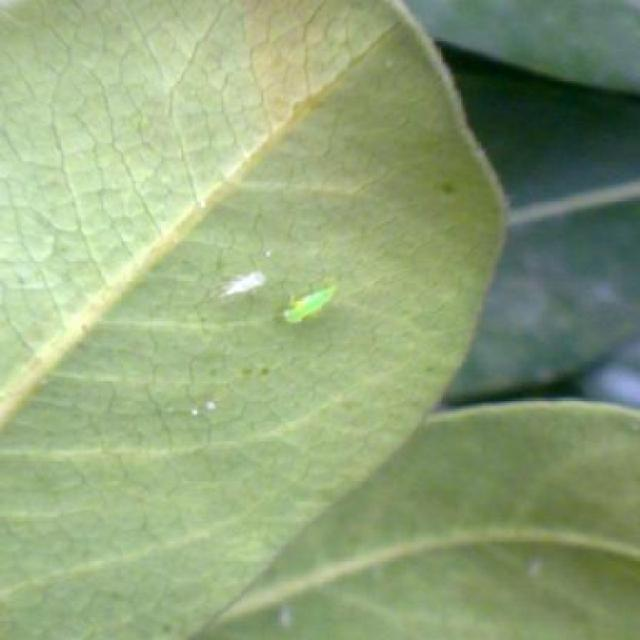green-leafhopper: (276, 280, 338, 328)
